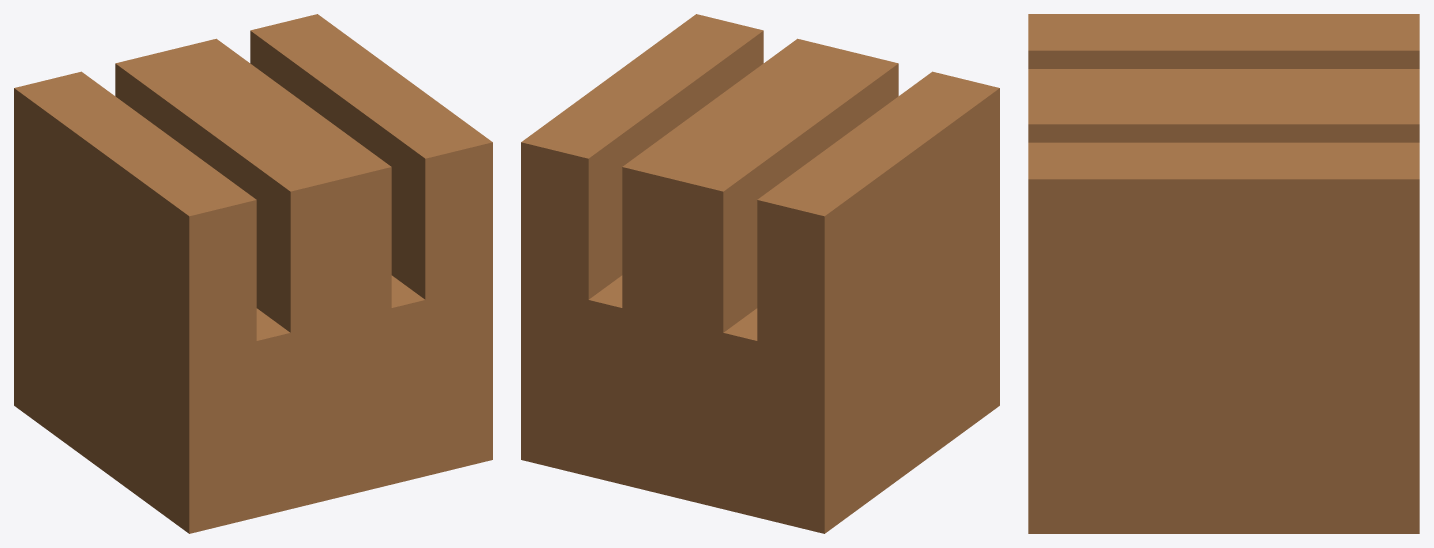
File: Thin_Straight_2S_Model.fbx
The picture shows the model from 3 angles, left to right: view 1: azimuth 30°, elevation 25°; view 2: azimuth 150°, elevation 25°; view 3: azimuth 270°, elevation 25°; orthographic projection. The views are drawn at different scales.
Parts seen in each view (by area): view 1: Cube; view 2: Cube; view 3: Cube.
Boxes of the visible parts, box(x1,y1,x2,y2) form: Cube: box(14, 14, 492, 533); Cube: box(521, 14, 999, 533); Cube: box(1028, 14, 1419, 533).
Size of the model in its own units: 100 by 100 by 100.
